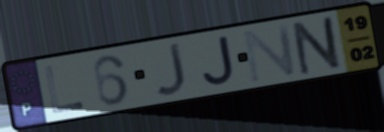6: (91, 52, 131, 109)
J: (152, 40, 189, 98), (200, 33, 237, 88)
L: (41, 64, 87, 116)
N: (240, 21, 300, 86), (290, 13, 346, 78)
